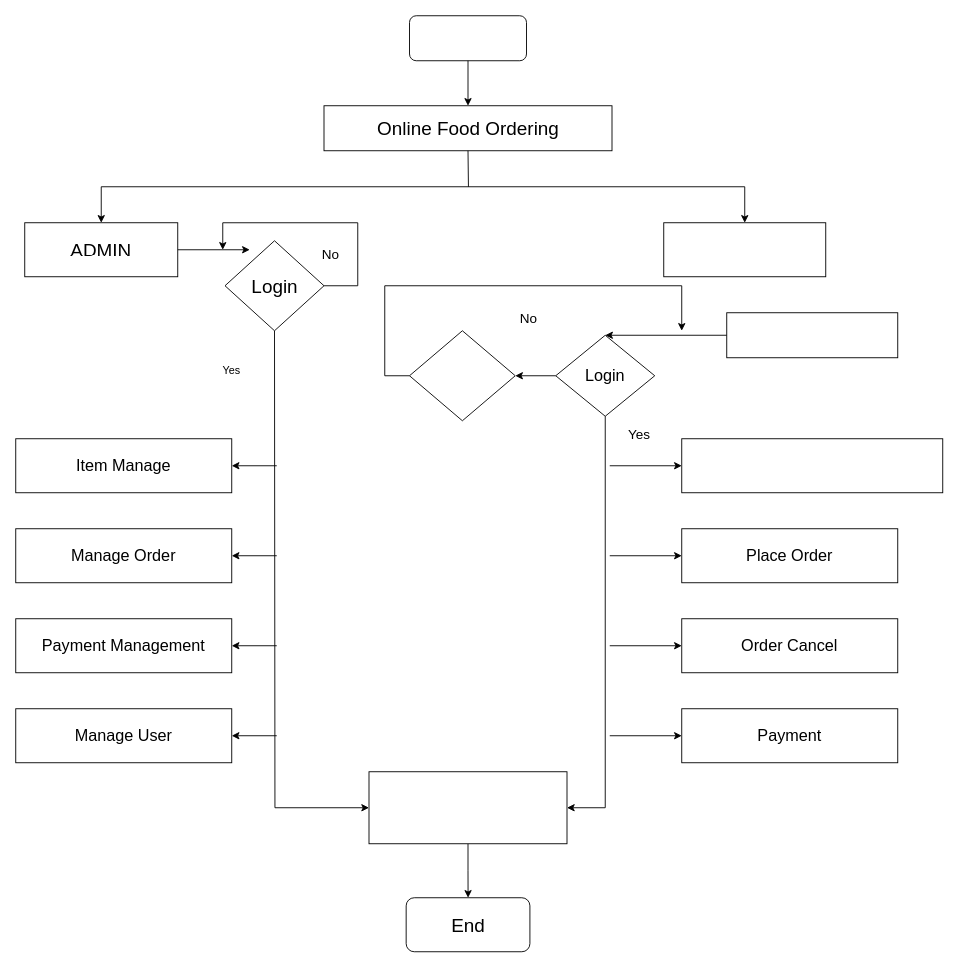
Image size: 959x968. Some labels were removed from this diagram. Here are the shapes that lost their labels. From the top down, the box of each, then its label:
(409, 15, 526, 61): Start
(663, 222, 826, 277): USER
(726, 312, 898, 358): Show Item
(409, 330, 515, 421): REG
(681, 438, 943, 493): Item View, Add Cart
(368, 771, 567, 844): Logout
